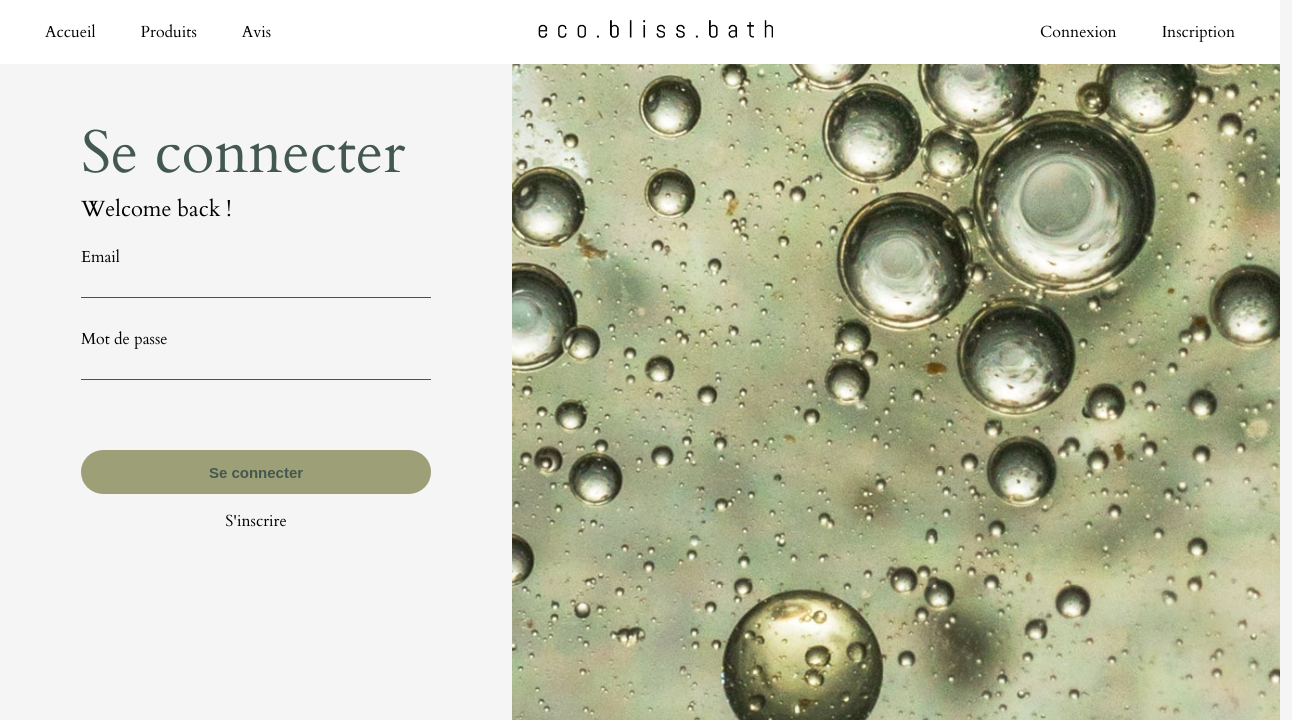
Test case: Login Test › Should fail to login with empty credentials
Click the button with test id "login-submit": (256, 472) top-left (81, 450), bottom-right (431, 494)
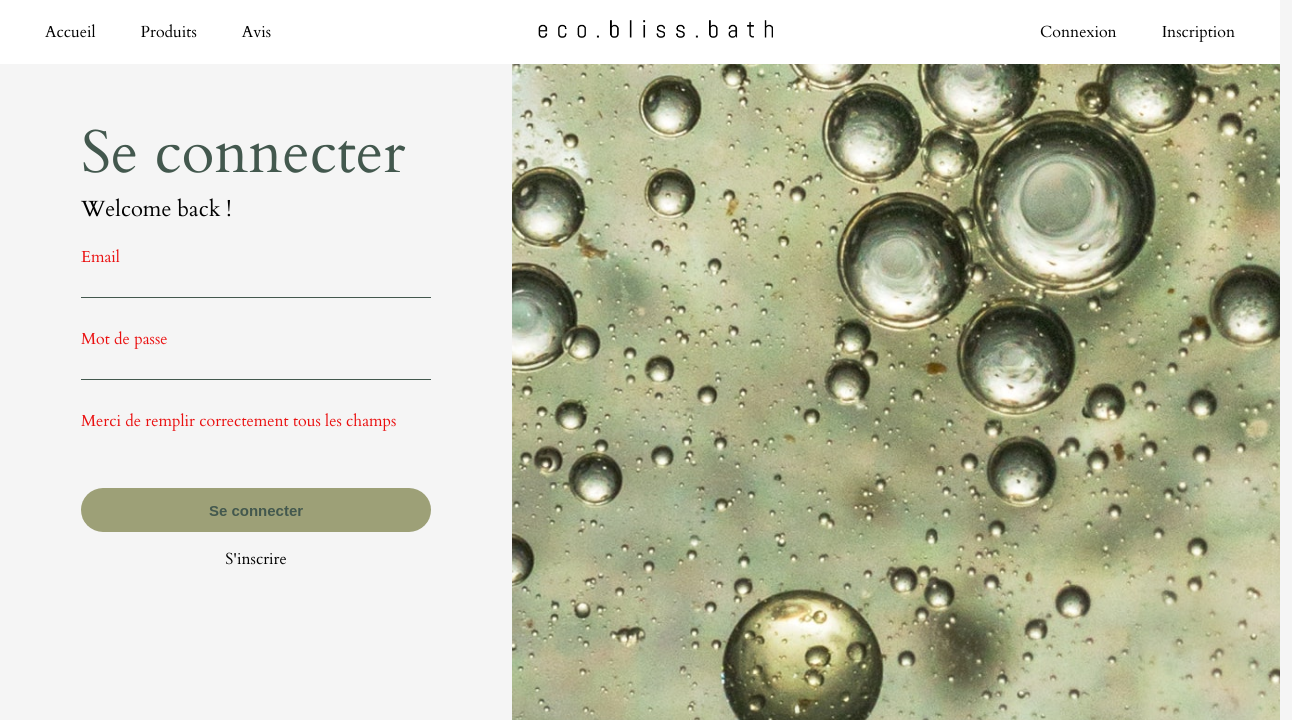
Expected: the text with test id "login-errors" reads "Merci de remplir correctement tous les champs", top-left (81, 410), bottom-right (431, 432)
